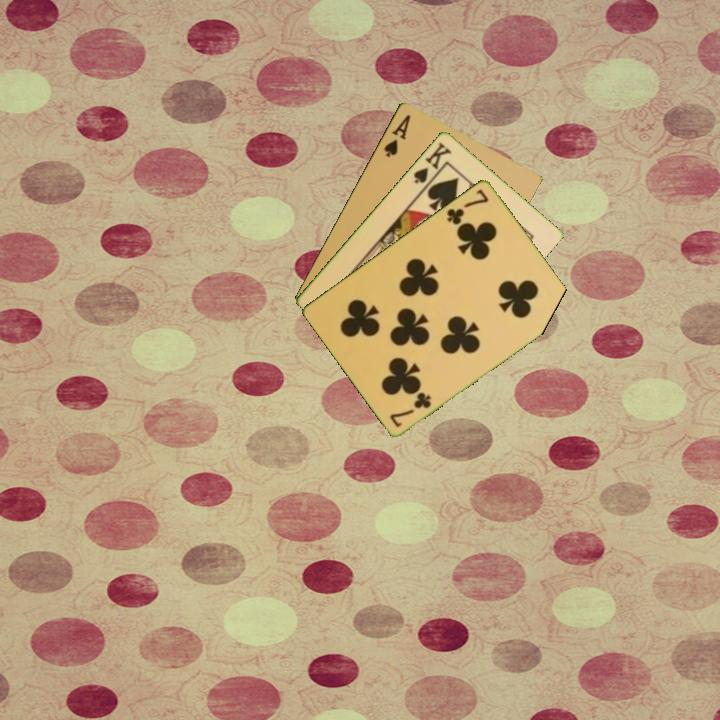7c: (443, 185, 492, 227), (386, 388, 434, 430)
As: (380, 111, 413, 160)
Ks: (410, 138, 455, 191)
